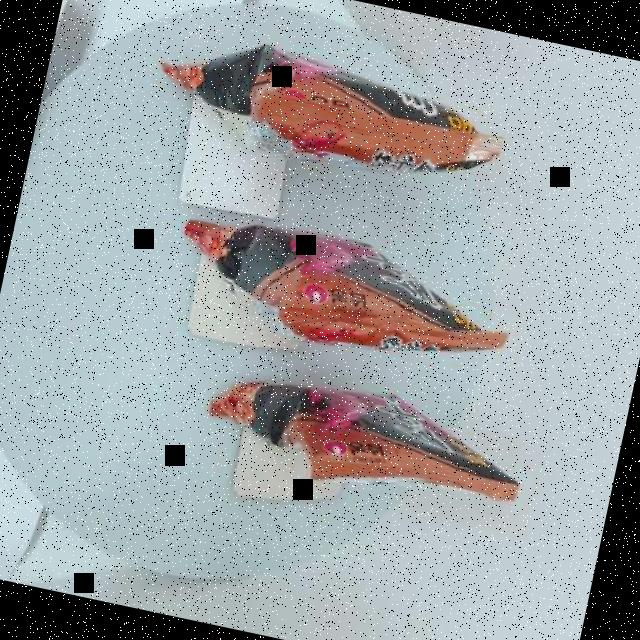snack_bag: (74, 11, 610, 534)
